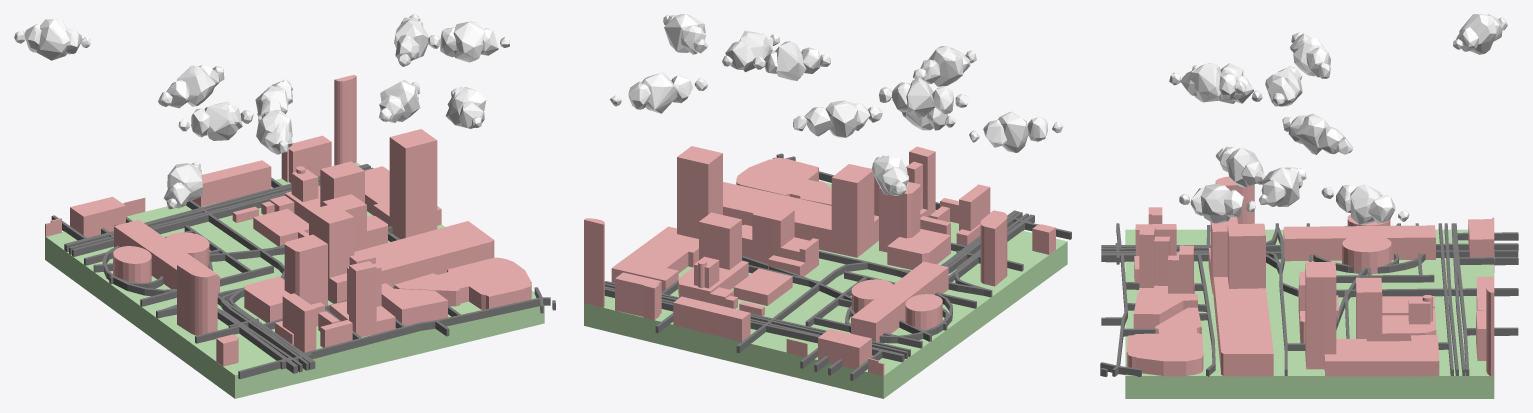
The model's file is city.obj.
3 views of the same model, side by side, from view 1: azimuth 30°, elevation 25°; view 2: azimuth 150°, elevation 25°; view 3: azimuth 270°, elevation 25° (orthographic). The views are drawn at different scales.
Visible parts, largest first — view 1: NODE_66, NODE_57, NODE_67, NODE_10, NODE_14, NODE_11, NODE_15, NODE_13, NODE_12, NODE_19, NODE_17, NODE_18 (+1 smaller); view 2: NODE_66, NODE_57, NODE_67, NODE_16, NODE_15, NODE_17, NODE_13, NODE_12, NODE_18, NODE_10, NODE_19, NODE_14 (+1 smaller); view 3: NODE_66, NODE_57, NODE_67, NODE_17, NODE_18, NODE_16, NODE_19, NODE_14, NODE_10, NODE_12, NODE_15, NODE_11 (+1 smaller).
Part boxes in pixels (x1,y1,x2,y2): NODE_66: (45,74,531,366); NODE_57: (45,162,544,398); NODE_67: (51,164,555,379); NODE_10: (428,21,509,62); NODE_14: (14,19,90,60); NODE_11: (178,101,253,140); NODE_15: (158,65,224,108); NODE_13: (164,162,202,209); NODE_12: (379,80,420,122); NODE_19: (446,87,486,128); NODE_17: (394,14,429,66); NODE_18: (256,109,292,154); NODE_66: (584,146,1055,375); NODE_57: (584,182,1067,398); NODE_67: (604,153,1071,380); NODE_16: (793,100,882,137); NODE_15: (879,78,969,117); NODE_17: (610,72,707,113); NODE_13: (969,111,1062,152); NODE_12: (752,41,830,80); NODE_18: (913,46,976,86); NODE_10: (663,14,707,54); NODE_19: (722,30,779,72); NODE_14: (871,155,908,195); NODE_66: (1126,176,1494,376); NODE_57: (1125,229,1494,398); NODE_67: (1100,223,1518,377); NODE_17: (1321,184,1409,224); NODE_18: (1169,63,1246,102); NODE_16: (1282,113,1353,154); NODE_19: (1179,184,1255,223); NODE_14: (1453,14,1507,54); NODE_10: (1259,167,1306,206); NODE_12: (1215,146,1265,187); NODE_15: (1290,32,1330,78); NODE_11: (1265,66,1302,106).
Bounding box in the file's own units: 66.7 × 42.18 × 66.28.
